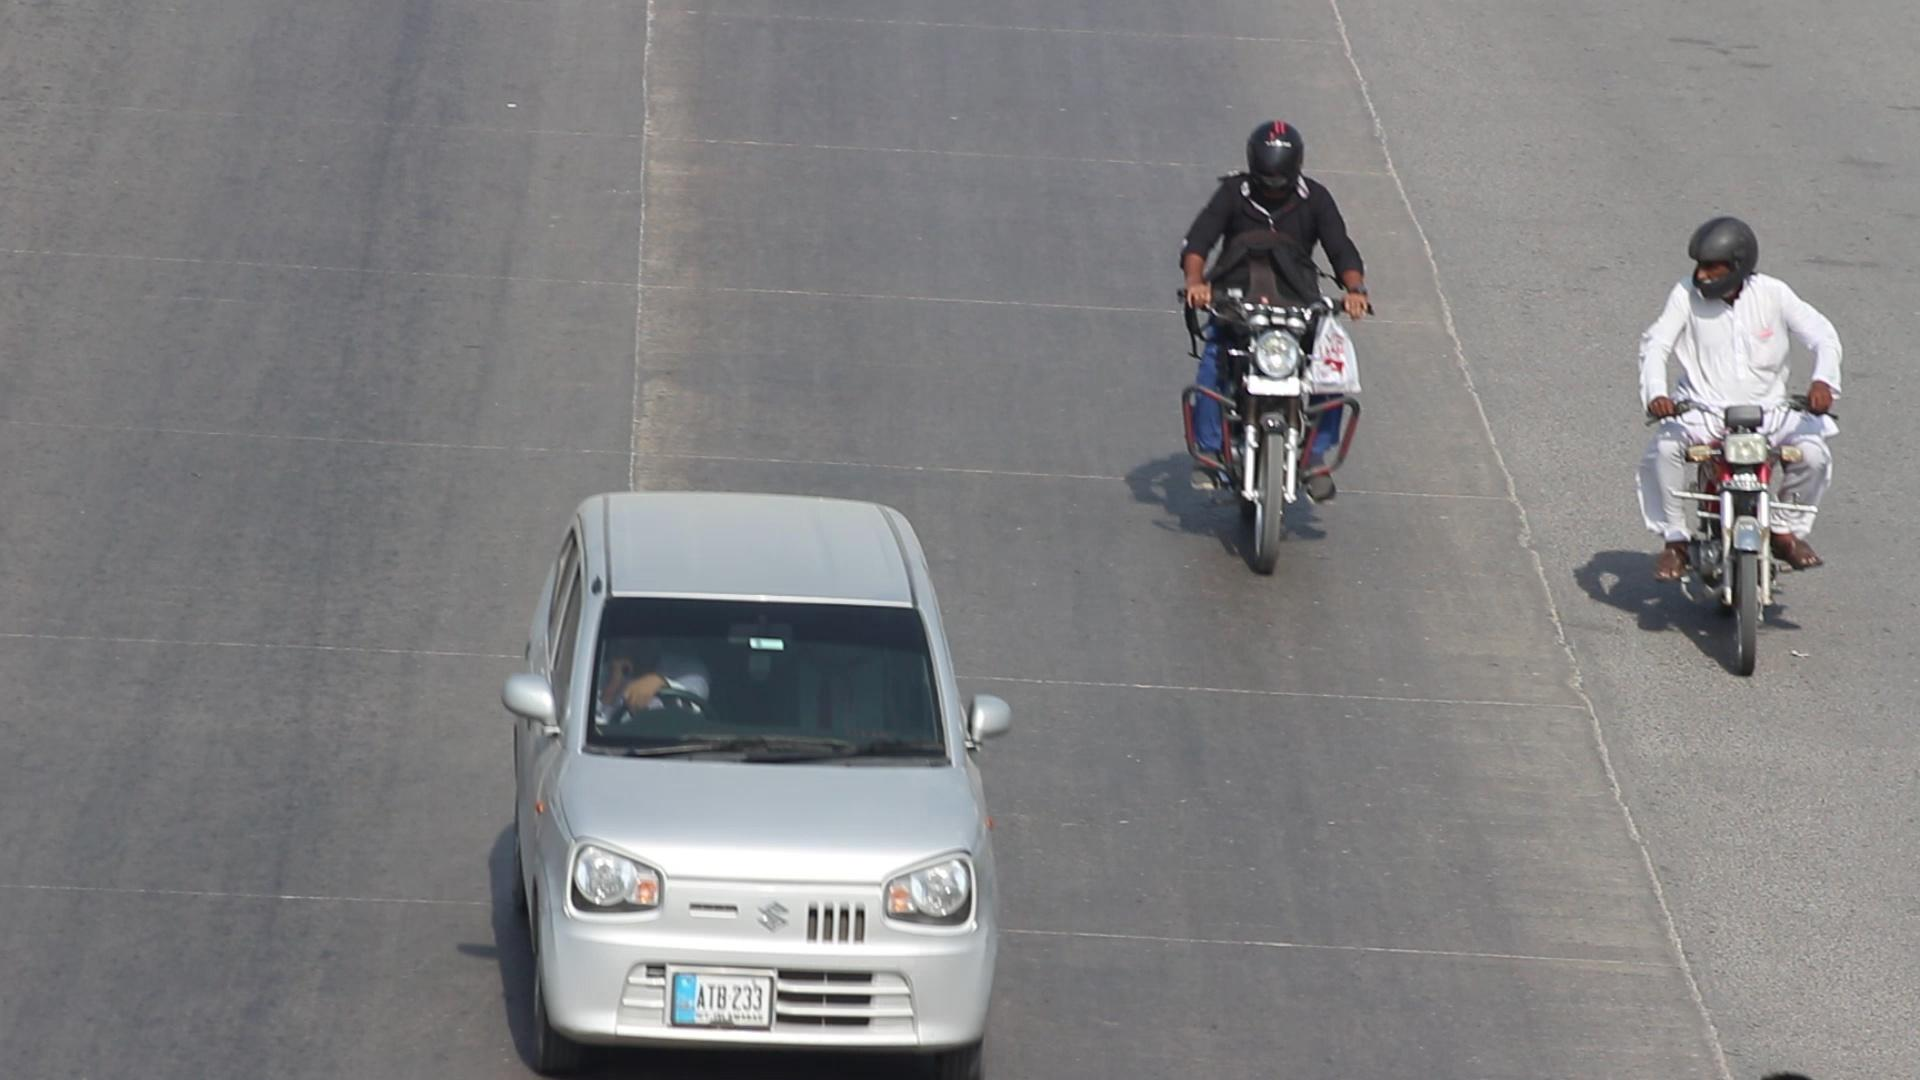windshield: (578, 583, 968, 777)
